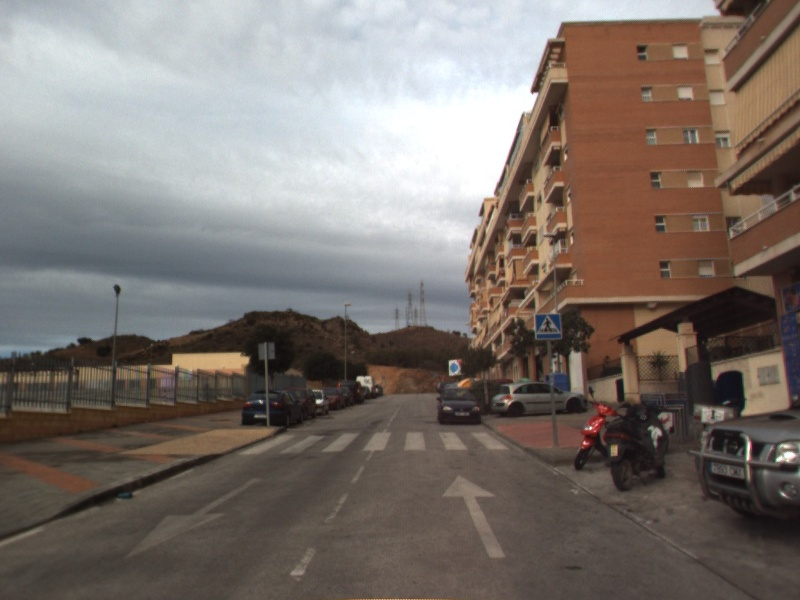STRAIGHT: (440, 472, 508, 560)
